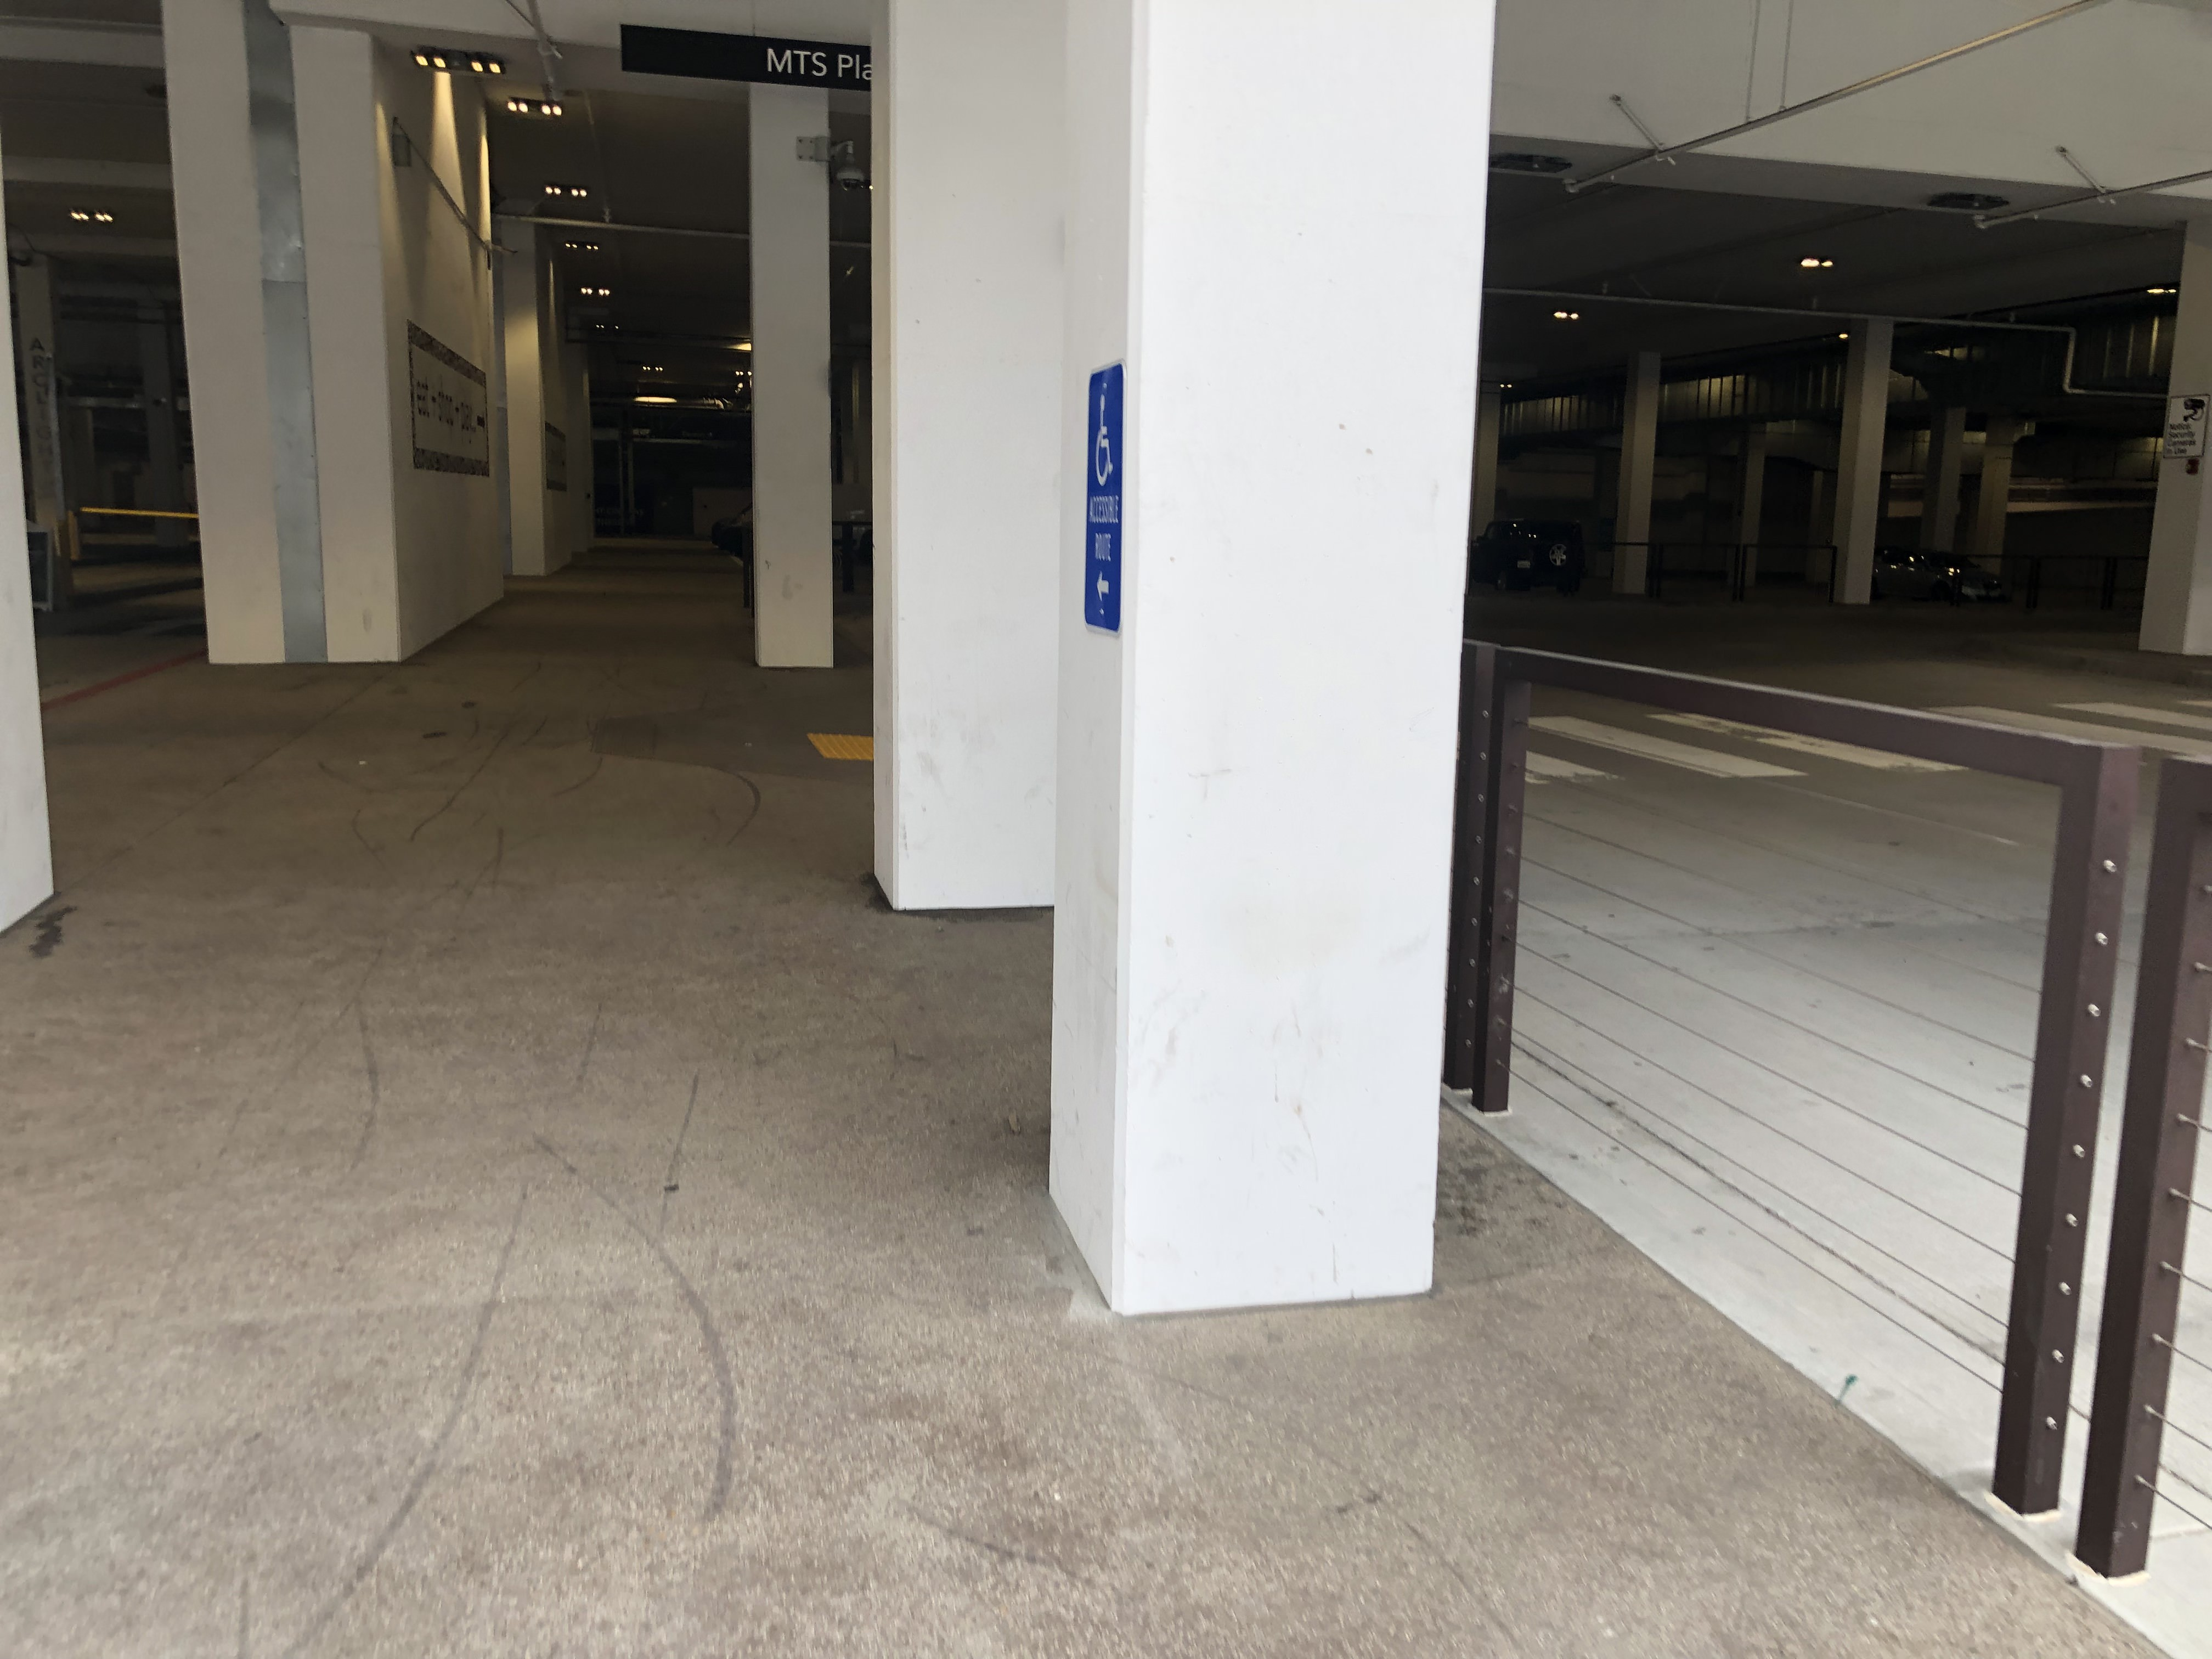Obstacle: (853, 9, 1458, 1321), (1444, 594, 2158, 1568), (138, 12, 578, 657), (742, 58, 824, 664), (3, 317, 66, 946)
